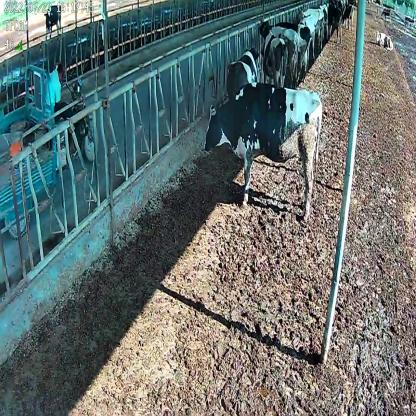cow: (204, 83, 324, 225), (226, 44, 260, 98), (261, 22, 289, 85), (375, 28, 395, 52)
